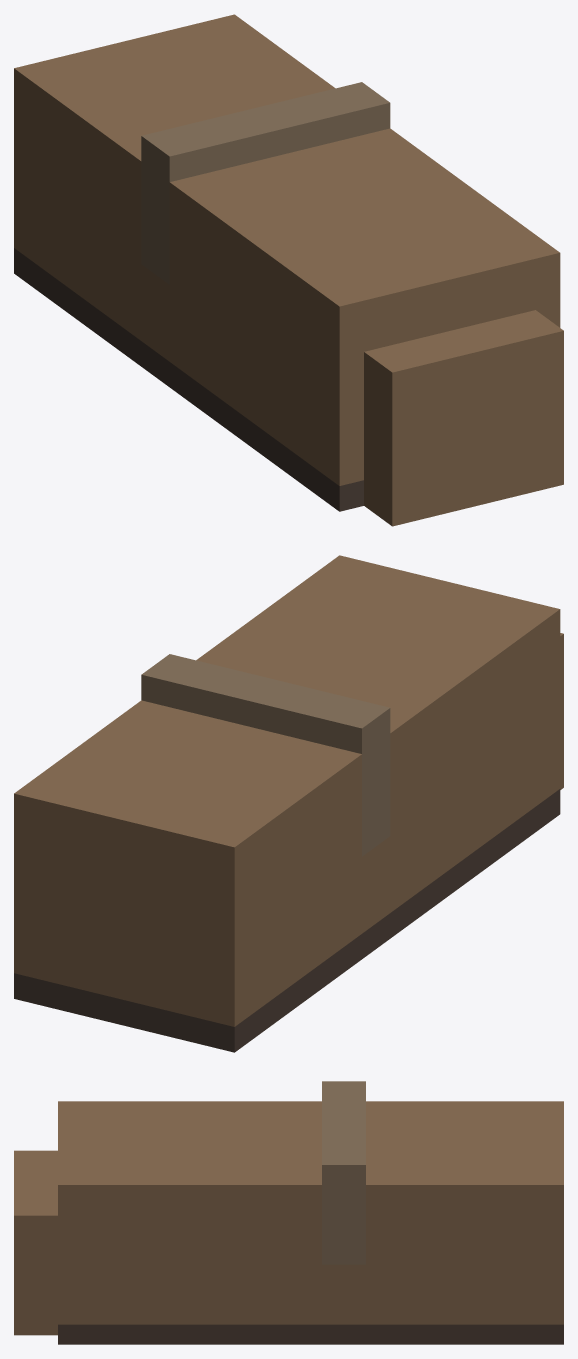
File: leather_uncommon_boot_foot_L.glb
3 renders of one model, top to bottom at view 1: azimuth 30°, elevation 25°; view 2: azimuth 150°, elevation 25°; view 3: azimuth 270°, elevation 25°, orthographic. The views are drawn at different scales.
Visible parts, largest first — view 1: leather_uncommon_boot_foot_L; view 2: leather_uncommon_boot_foot_L; view 3: leather_uncommon_boot_foot_L.
Part boxes in pixels (left/top/right/bottom): leather_uncommon_boot_foot_L: left=14, top=14, right=563, bottom=526; leather_uncommon_boot_foot_L: left=14, top=555, right=563, bottom=1052; leather_uncommon_boot_foot_L: left=14, top=1081, right=563, bottom=1344.
Bounding box in the file's own units: 0.108 × 0.108 × 0.3.
